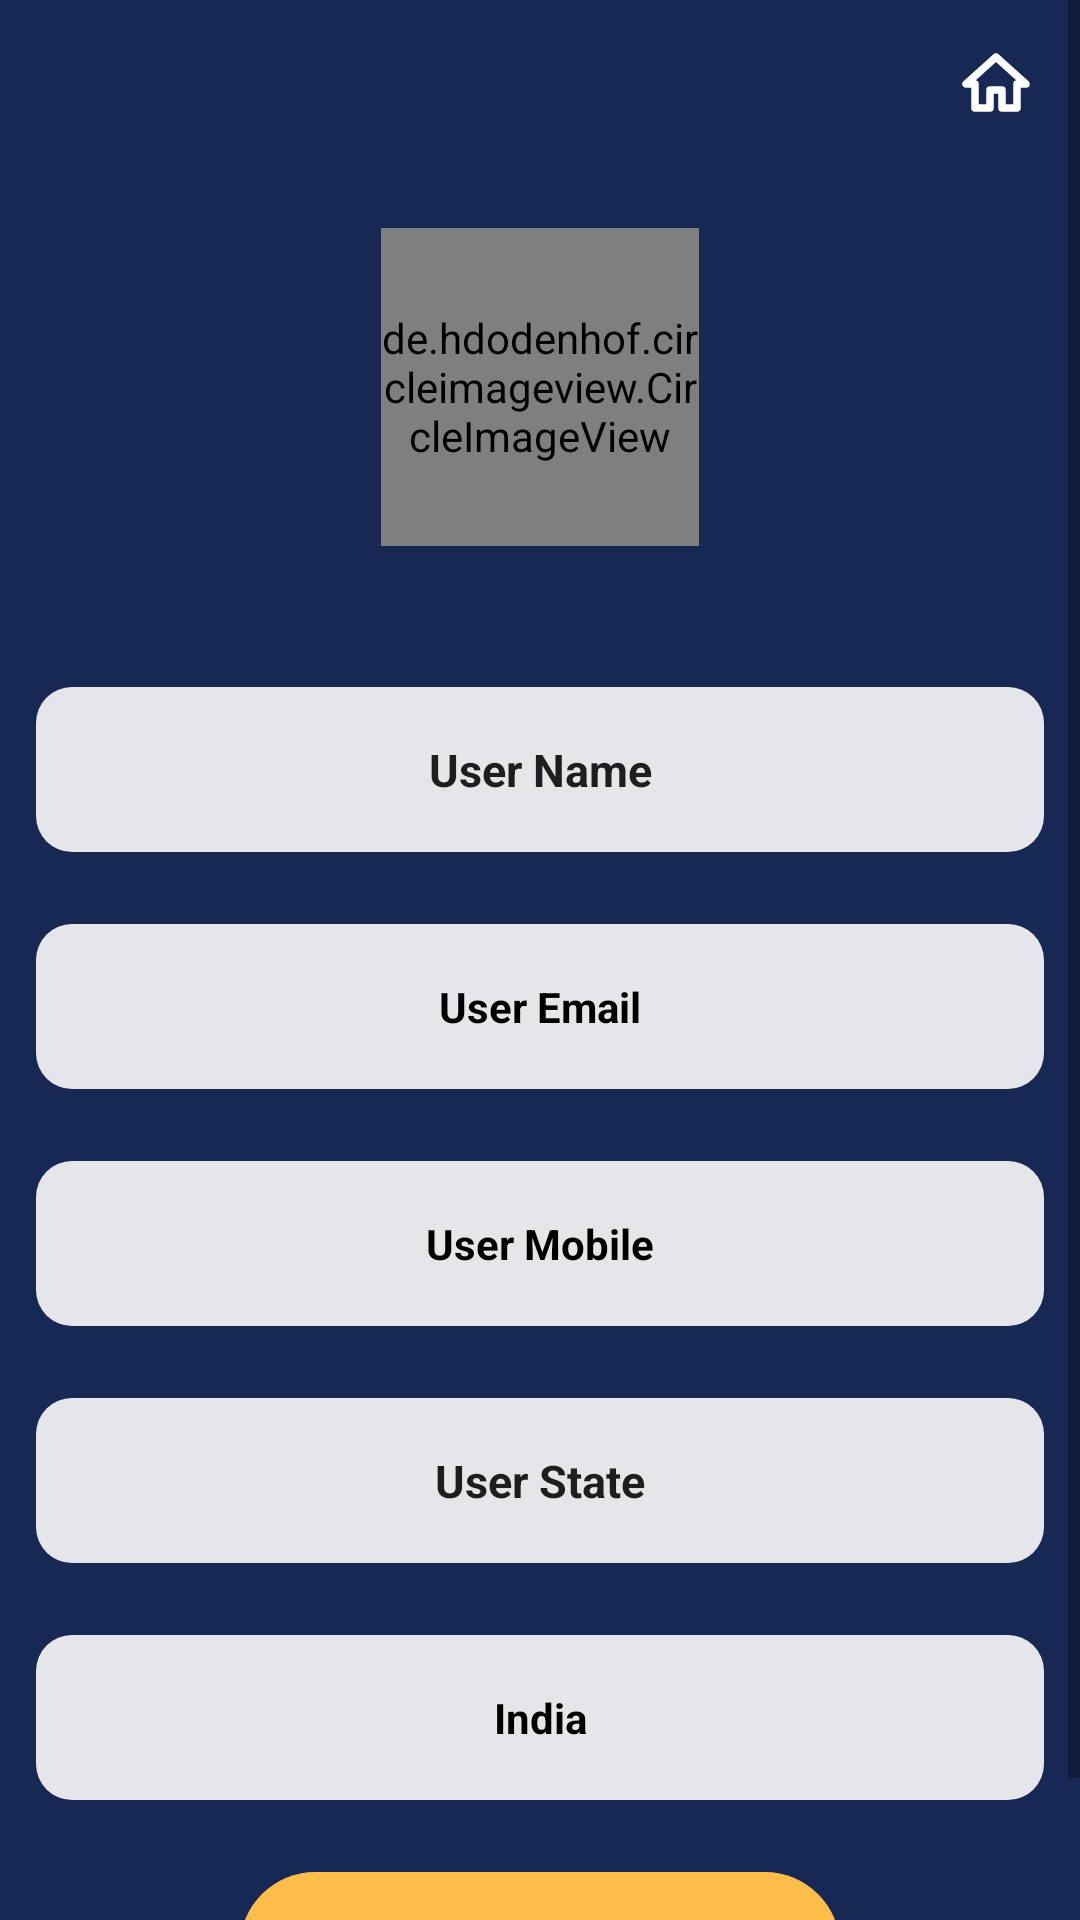

Icon bounding boxes for this 1080w x 1920h phone screenshot, format (x1, y1, x2, y2):
home: (962, 53, 1030, 112)
